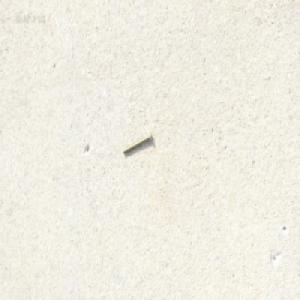Bolt: (122, 132, 151, 155)
